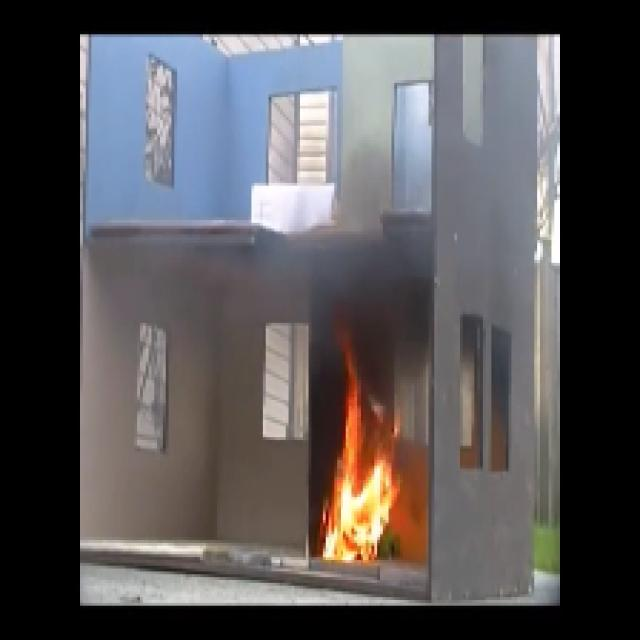fire: (312, 335, 405, 559)
